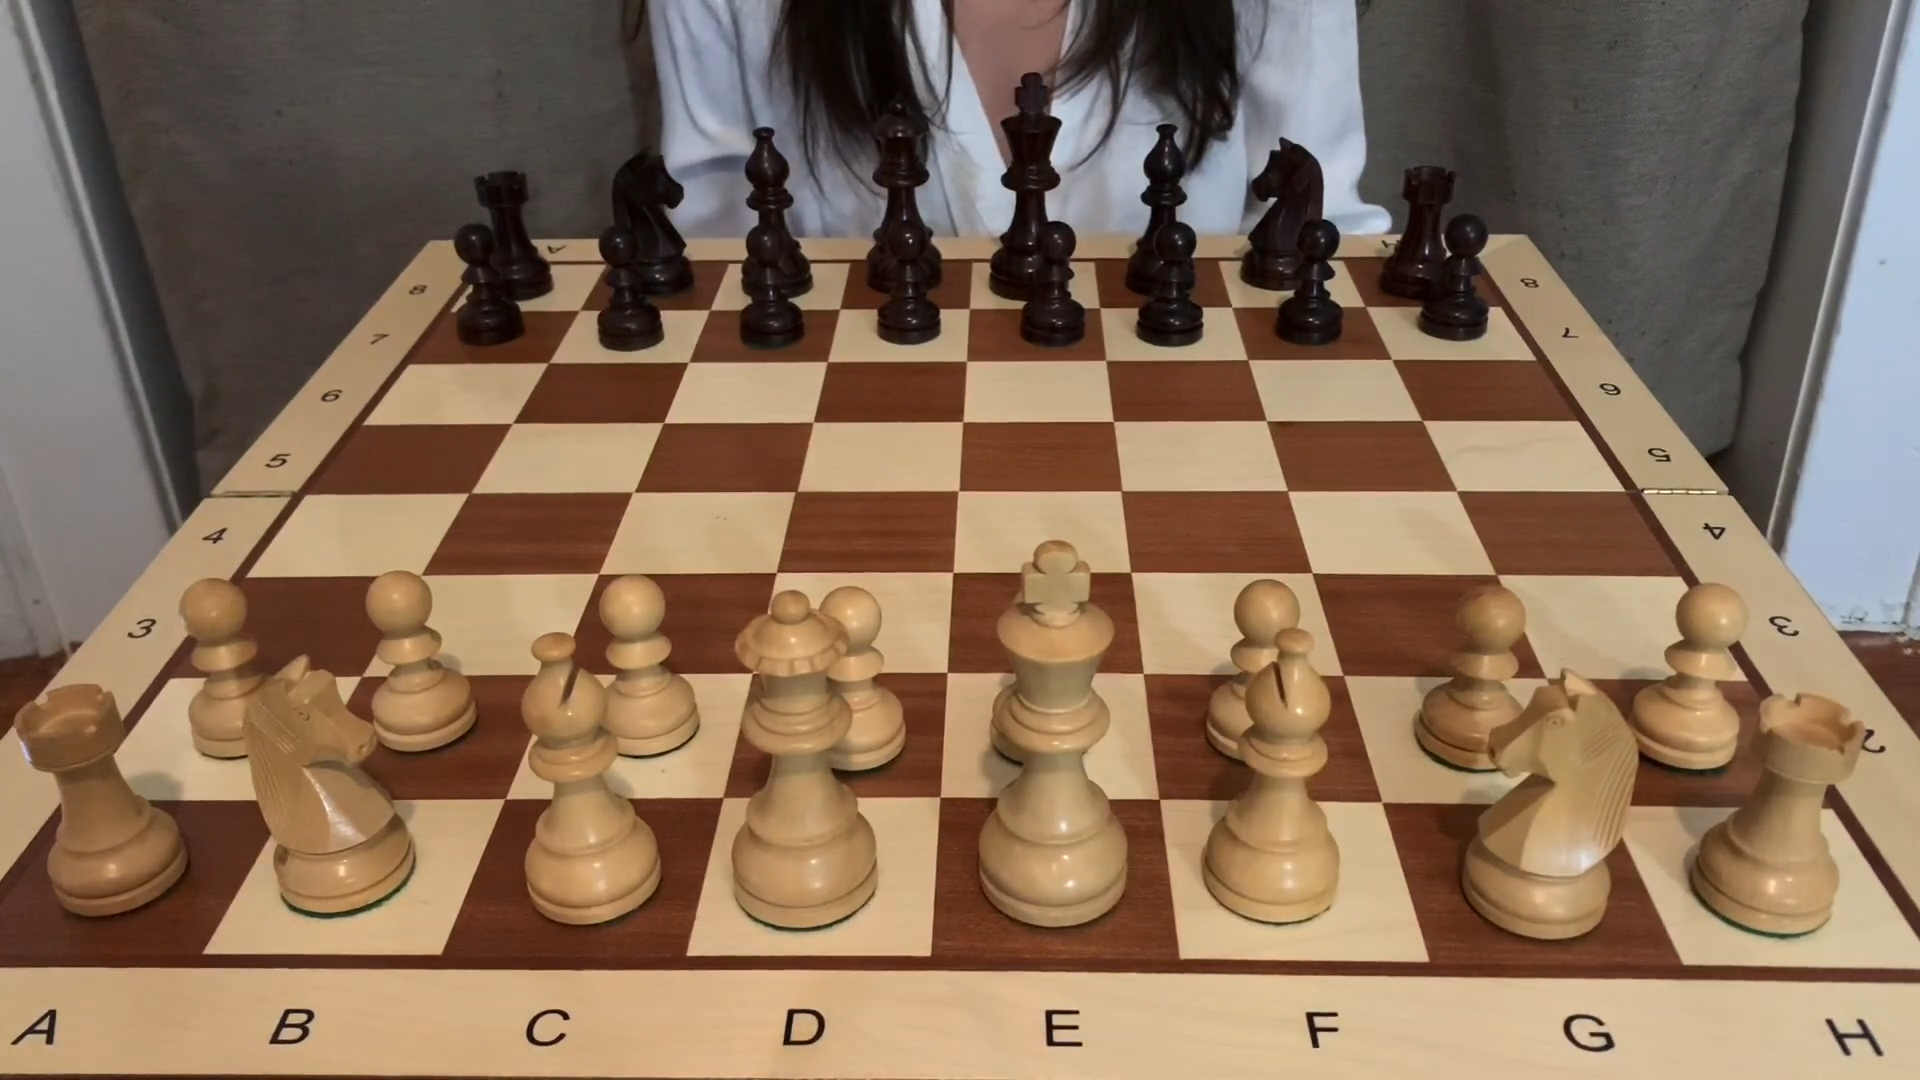BB: (1129, 123, 1199, 293), (738, 123, 804, 261)
BK: (997, 69, 1069, 299)
BN: (607, 144, 694, 294), (1244, 135, 1320, 291)
BP: (450, 219, 525, 349), (738, 224, 806, 349), (599, 228, 663, 352), (1424, 216, 1490, 336), (878, 219, 939, 345), (1141, 220, 1201, 345), (1283, 220, 1342, 345), (1029, 222, 1087, 347)
BQ: (864, 95, 945, 289)
BR: (475, 169, 556, 302), (1381, 164, 1451, 305)
WB: (512, 626, 667, 934), (1201, 626, 1344, 928)
WK: (969, 535, 1134, 935), (1691, 688, 1866, 945)
WN: (1458, 669, 1639, 945), (244, 655, 422, 920)
WP: (359, 566, 485, 753), (1416, 580, 1532, 774), (1629, 580, 1745, 771), (593, 570, 700, 760), (820, 583, 913, 775), (1209, 578, 1304, 761), (173, 579, 269, 757)
WQ: (728, 587, 882, 932)
WR: (11, 684, 193, 919)
